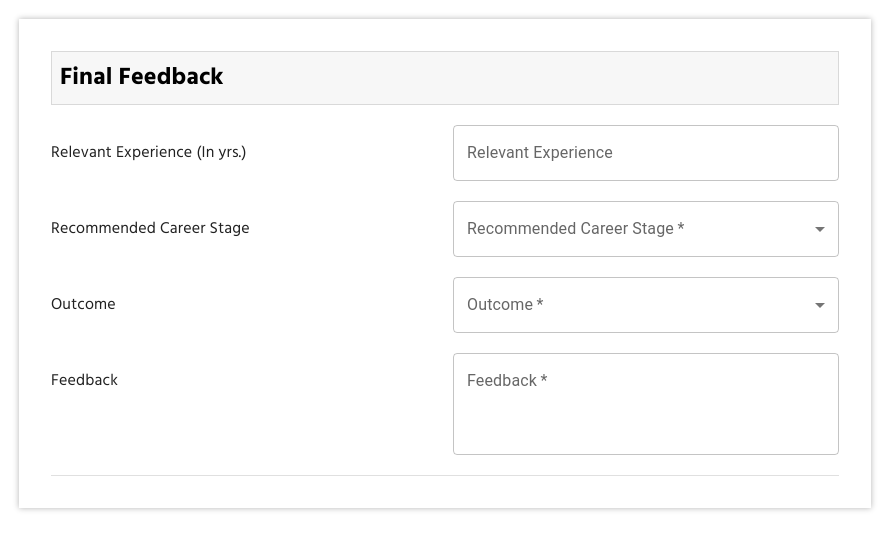
Final Feedback › relaventExperience validation on empty
This screenshot has width=891, height=551.
Step 1. Type "20" into the number field labelled "Relevant Experience" → {"x": 646, "y": 153}, box [453,125,839,181]
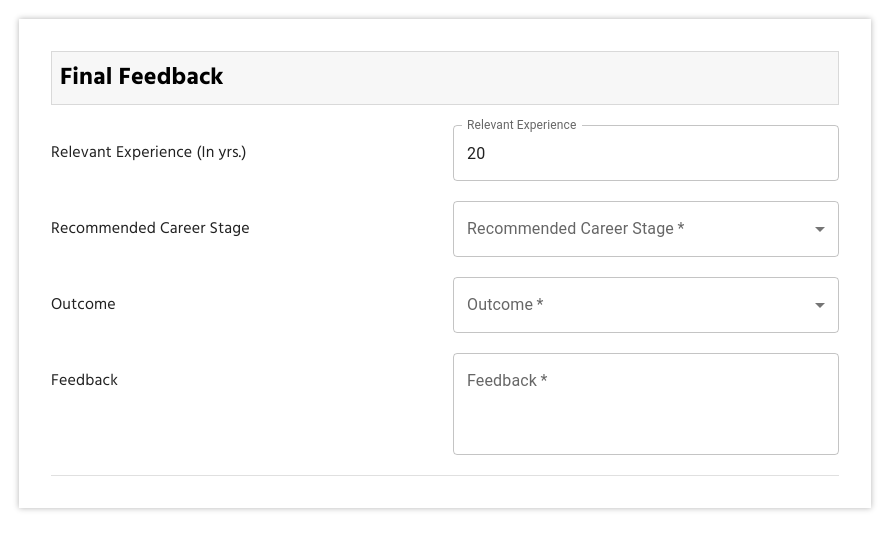
Step 2. Clear the number field labelled "Relevant Experience" → {"x": 646, "y": 153}, box [453,125,839,181]
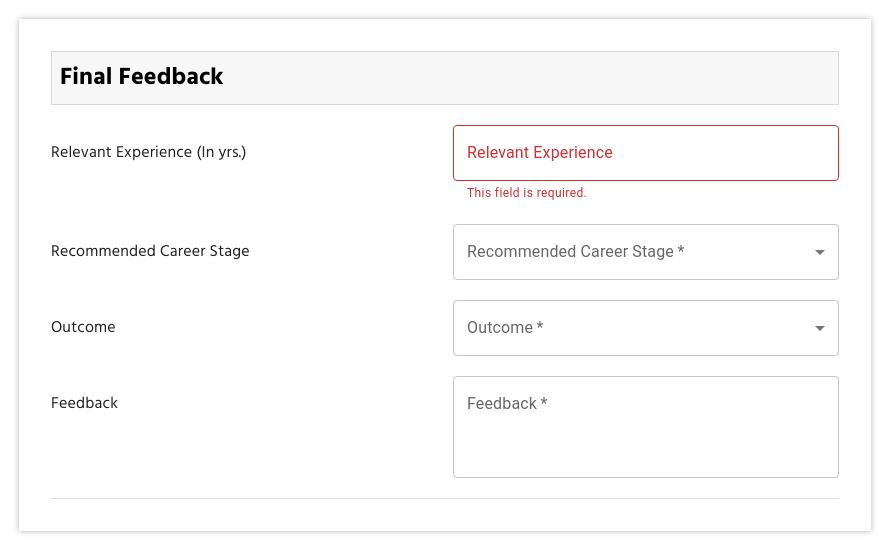
Expected: the text "This field is required." is shown, [467,186,587,200]
